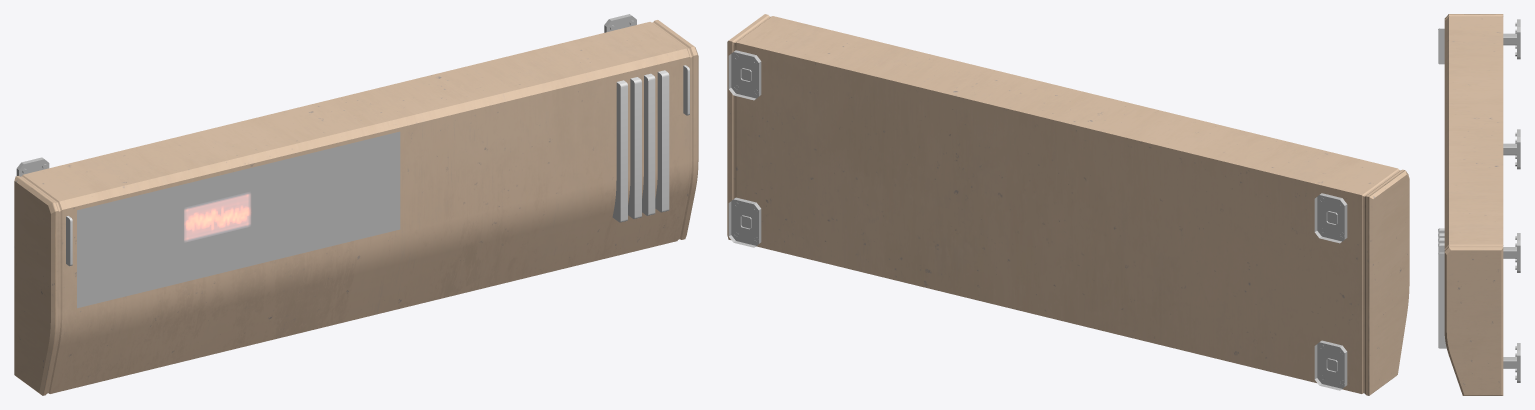
The model's file is KB3D_CBP_UtilityDevice_N.fbx.
The picture shows the model from 3 angles, left to right: view 1: azimuth 30°, elevation 25°; view 2: azimuth 150°, elevation 25°; view 3: azimuth 270°, elevation 25°; orthographic projection. The views are drawn at different scales.
Visible parts, largest first — view 1: KB3D_CBP_UtilityDevice_N_Main; view 2: KB3D_CBP_UtilityDevice_N_Main; view 3: KB3D_CBP_UtilityDevice_N_Main.
Part boxes in pixels (x1=…): KB3D_CBP_UtilityDevice_N_Main: x1=14, y1=14, x2=698, y2=395; KB3D_CBP_UtilityDevice_N_Main: x1=727, y1=14, x2=1409, y2=395; KB3D_CBP_UtilityDevice_N_Main: x1=1438, y1=14, x2=1520, y2=395.
Bounding box in the file's own units: 279 × 82.68 × 41.36.
